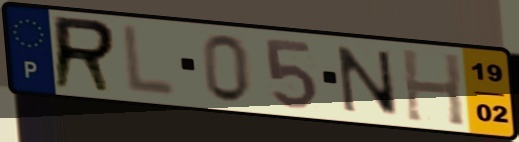0: (198, 31, 254, 106)
5: (261, 36, 323, 111)
H: (398, 46, 468, 129)
L: (121, 22, 179, 101)
N: (333, 43, 403, 119)
R: (51, 13, 119, 96)
